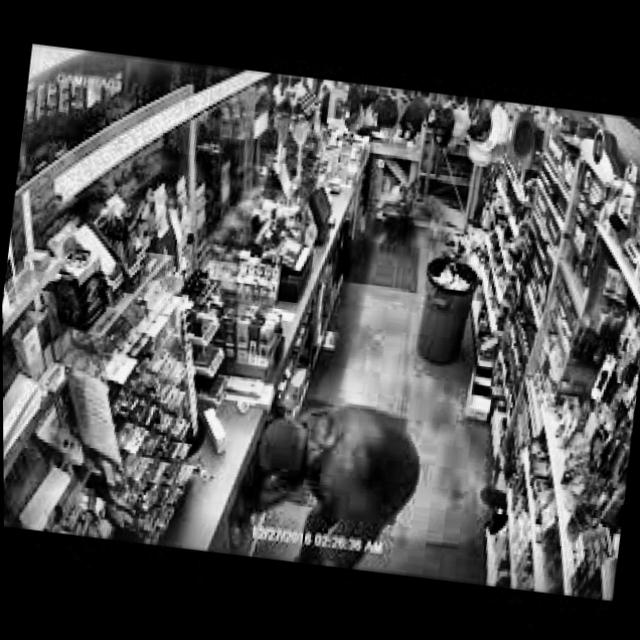burglary: (205, 376, 434, 576)
